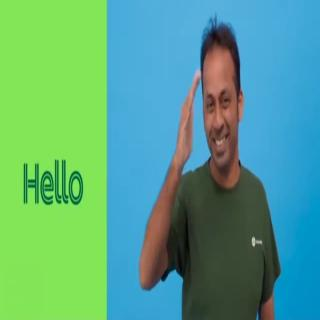Hello: (140, 14, 282, 318)
